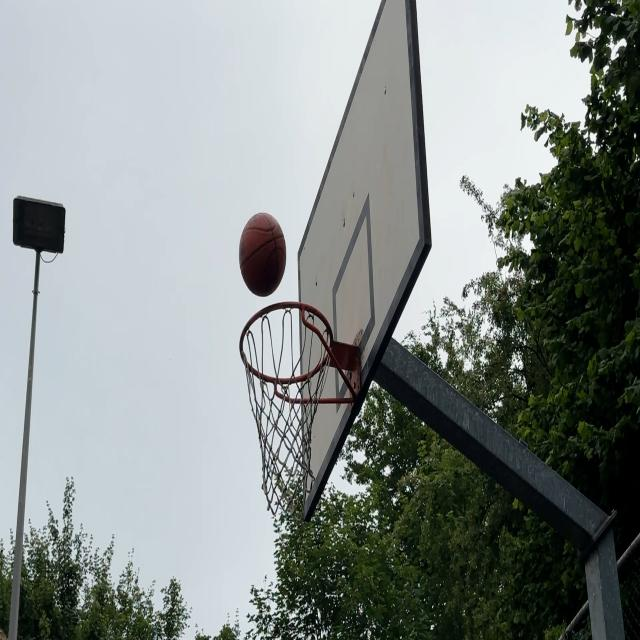Basketball: (242, 214, 288, 296)
